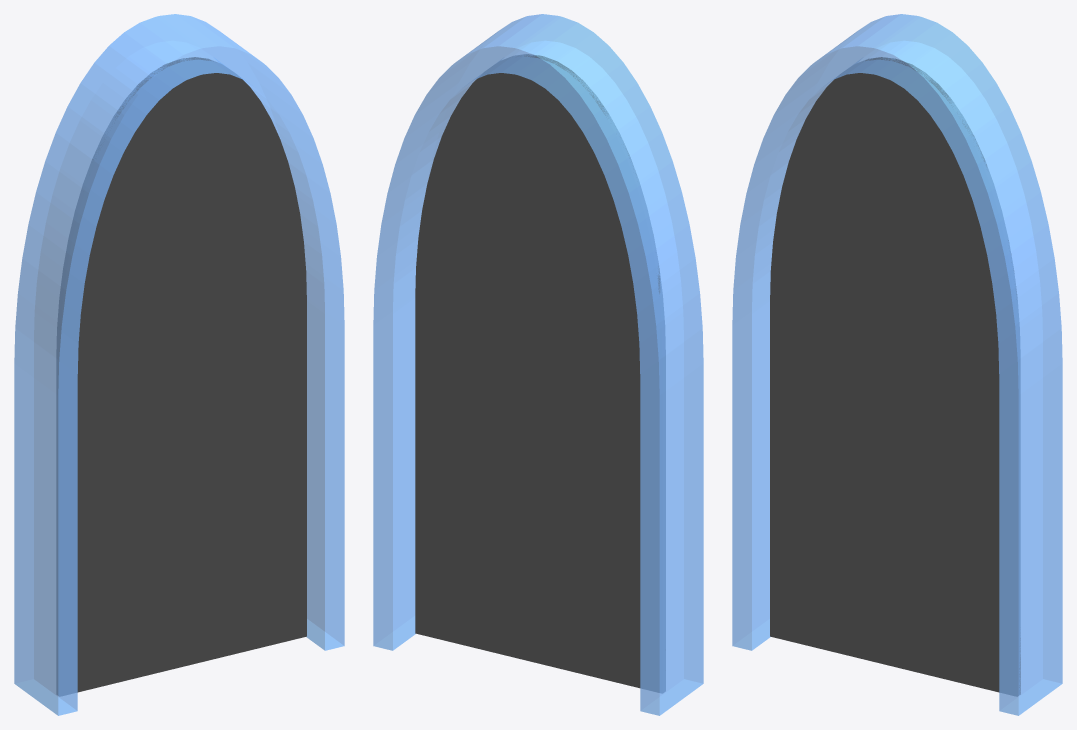
The model's file is portal.gltf.
3 views of the same model, side by side, from view 1: azimuth 30°, elevation 25°; view 2: azimuth 150°, elevation 25°; view 3: azimuth 330°, elevation 25° (orthographic).
Visible parts, largest first — view 1: Plane.001, Plane; view 2: Plane.001, Plane; view 3: Plane.001, Plane.
Part boxes in pixels (left/top/right/bottom): Plane.001: left=57, top=57, right=306, bottom=695; Plane: left=14, top=14, right=344, bottom=715; Plane.001: left=415, top=54, right=665, bottom=692; Plane: left=373, top=14, right=703, bottom=715; Plane.001: left=770, top=57, right=1020, bottom=695; Plane: left=732, top=14, right=1062, bottom=715.
Bounding box in the file's own units: 0.6204 × 1.31 × 0.165.
